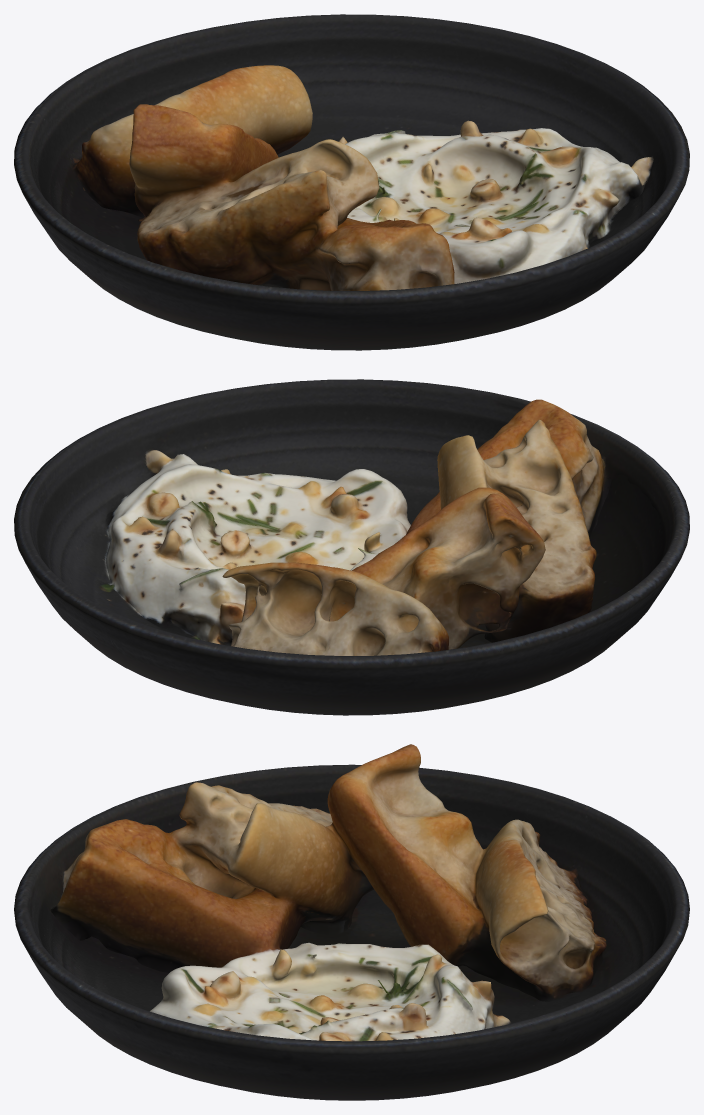
File: Whipped_ricotta.FBX
The picture shows the model from 3 angles, top to bottom: view 1: azimuth 30°, elevation 25°; view 2: azimuth 150°, elevation 25°; view 3: azimuth 270°, elevation 25°; orthographic projection.
Parts seen in each view (by area): view 1: Whipped_ricotta; view 2: Whipped_ricotta; view 3: Whipped_ricotta.
Part boxes in pixels (x1,y1,x2,y2): Whipped_ricotta: (14, 14, 689, 350); Whipped_ricotta: (14, 379, 689, 715); Whipped_ricotta: (14, 744, 689, 1100).
Bounding box in the file's own units: 4.33 × 1.25 × 4.33.
1 material, 1 textured.
